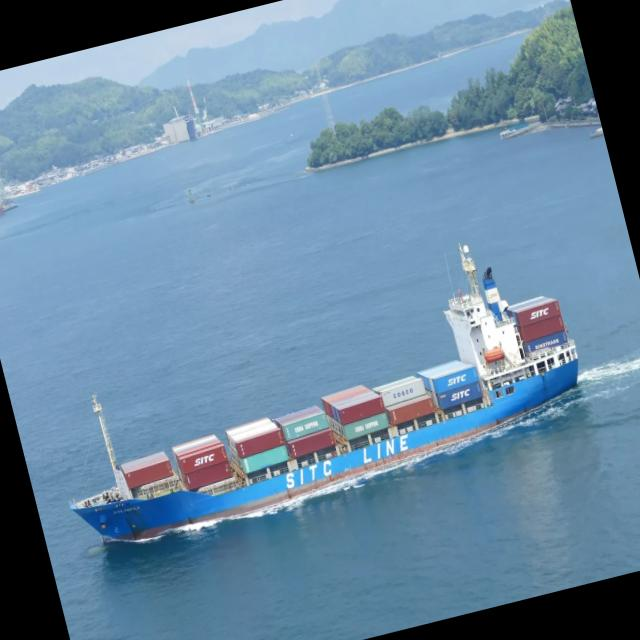Cargo: (71, 245, 577, 540)
